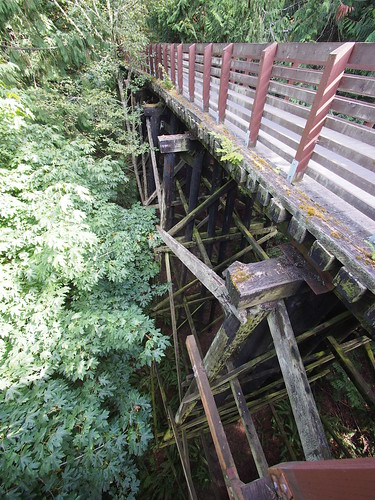bridge: (142, 45, 375, 417)
vegetation: (1, 8, 156, 489)
